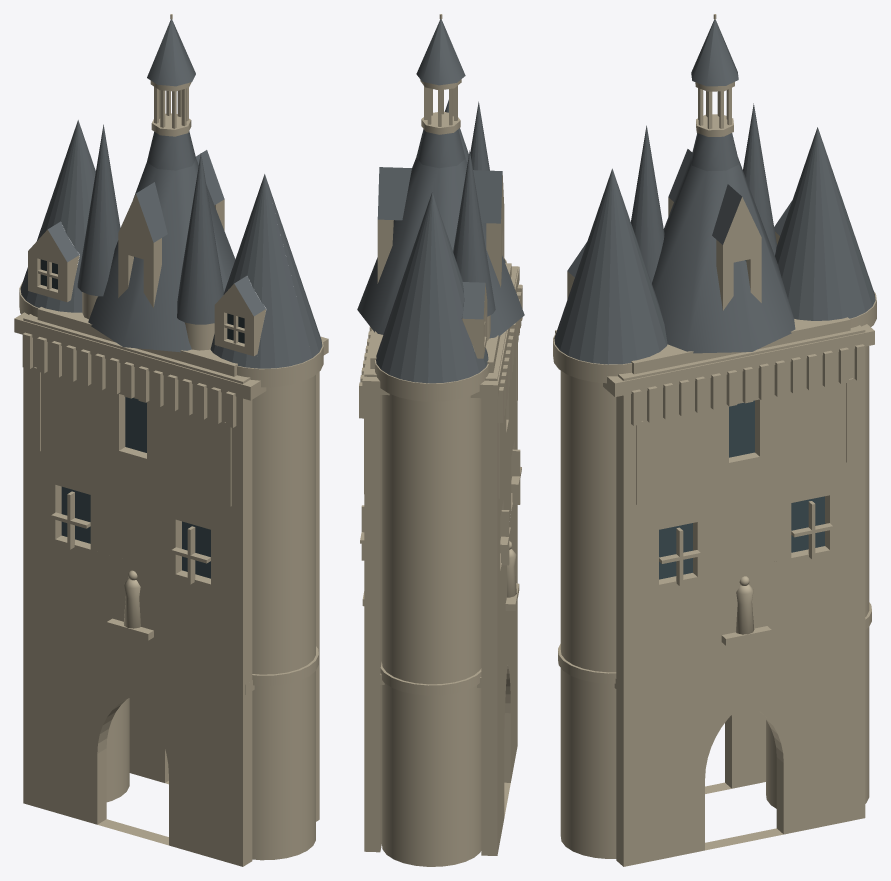
Rendered from porte-cailhau-bordeaux-near.glb.
3 renders of one model, left to right at view 1: azimuth 30°, elevation 25°; view 2: azimuth 150°, elevation 25°; view 3: azimuth 270°, elevation 25°, orthographic. The views are drawn at different scales.
Visible parts, largest first — view 1: porte-cailhau-bordeaux-0-plaster, porte-cailhau-bordeaux-0-roof, porte-cailhau-bordeaux-0-glass; view 2: porte-cailhau-bordeaux-0-plaster, porte-cailhau-bordeaux-0-roof; view 3: porte-cailhau-bordeaux-0-plaster, porte-cailhau-bordeaux-0-roof, porte-cailhau-bordeaux-0-glass.
Part boxes in pixels (x1=…): porte-cailhau-bordeaux-0-plaster: x1=14, y1=14, x2=328, y2=866; porte-cailhau-bordeaux-0-roof: x1=20, y1=19, x2=322, y2=368; porte-cailhau-bordeaux-0-glass: x1=61, y1=257, x2=210, y2=578; porte-cailhau-bordeaux-0-plaster: x1=359, y1=14, x2=522, y2=866; porte-cailhau-bordeaux-0-roof: x1=357, y1=19, x2=524, y2=383; porte-cailhau-bordeaux-0-plaster: x1=553, y1=14, x2=876, y2=866; porte-cailhau-bordeaux-0-roof: x1=554, y1=19, x2=875, y2=364; porte-cailhau-bordeaux-0-glass: x1=659, y1=260, x2=824, y2=579.
Bounding box in the file's own units: 9.88 × 35 × 12.8.
